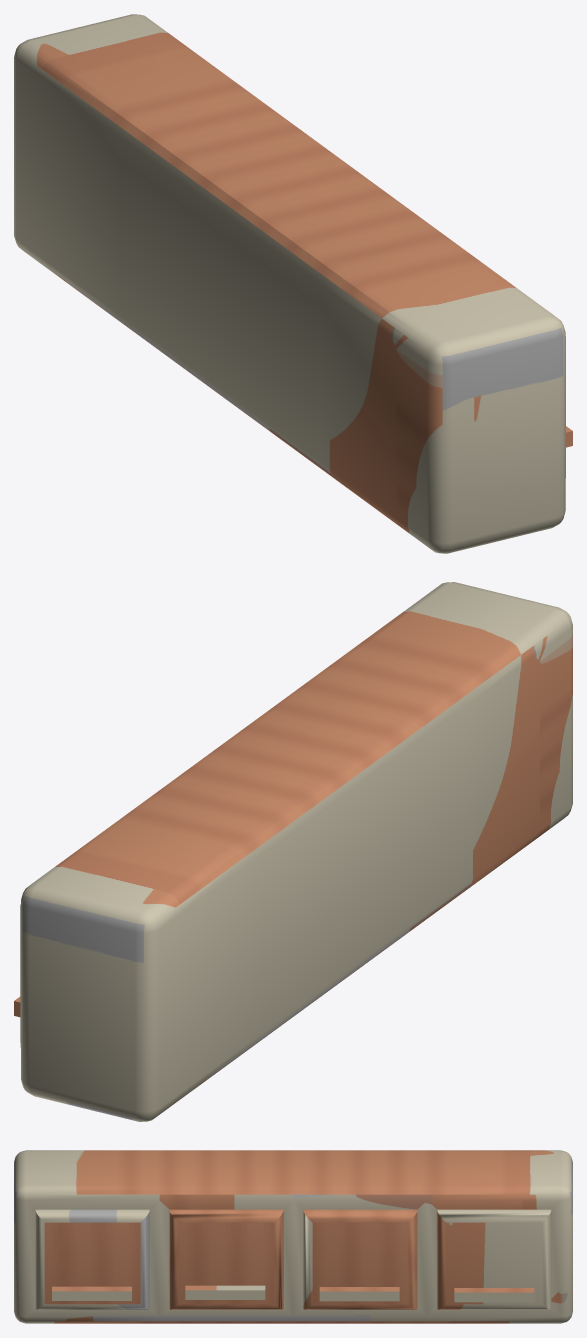
Rendered from Mesh_Enviro_PommeAmour_Desk.fbx.
3 renders of one model, top to bottom at view 1: azimuth 30°, elevation 25°; view 2: azimuth 150°, elevation 25°; view 3: azimuth 270°, elevation 25°, orthographic. The views are drawn at different scales.
Parts seen in each view (by area): view 1: pommeamour_desk; view 2: pommeamour_desk; view 3: pommeamour_desk.
Part boxes in pixels (x1=…): pommeamour_desk: x1=14, y1=14, x2=572, y2=553; pommeamour_desk: x1=14, y1=582, x2=572, y2=1121; pommeamour_desk: x1=14, y1=1150, x2=572, y2=1323.
Bounding box in the file's own units: 40.86 × 49.61 × 183.
